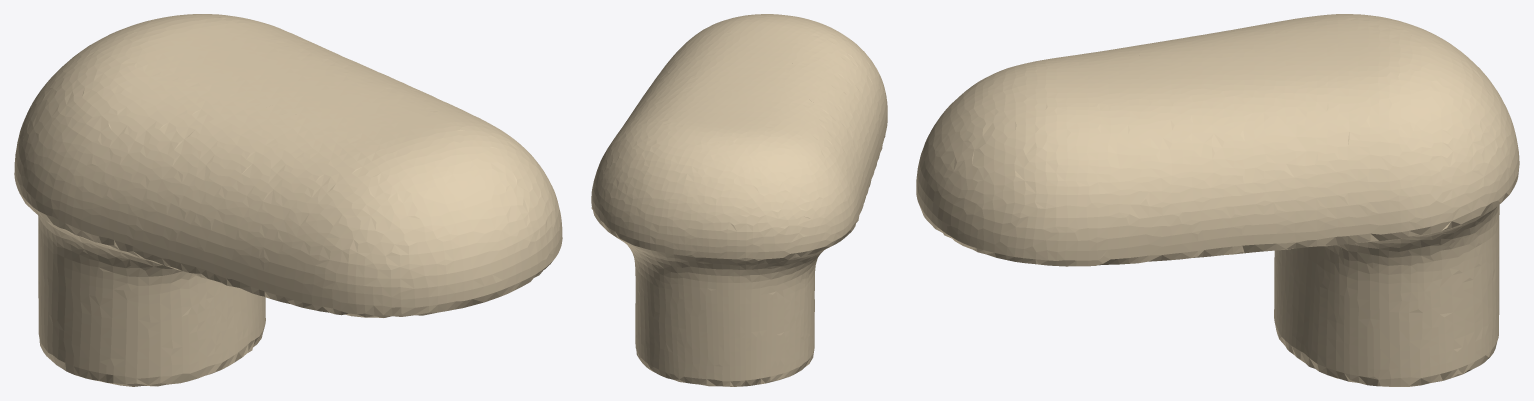
Rendered from skulptur-03.glb.
The picture shows the model from 3 angles, left to right: view 1: azimuth 30°, elevation 25°; view 2: azimuth 150°, elevation 25°; view 3: azimuth 270°, elevation 25°; orthographic projection. The views are drawn at different scales.
Visible parts, largest first — view 1: skulptur-03; view 2: skulptur-03; view 3: skulptur-03.
Part boxes in pixels (left/top/right/bottom): skulptur-03: left=14, top=14, right=562, bottom=386; skulptur-03: left=591, top=14, right=887, bottom=386; skulptur-03: left=916, top=14, right=1519, bottom=386.
Bounding box in the file's own units: 0.7125 × 0.5603 × 0.9993.
